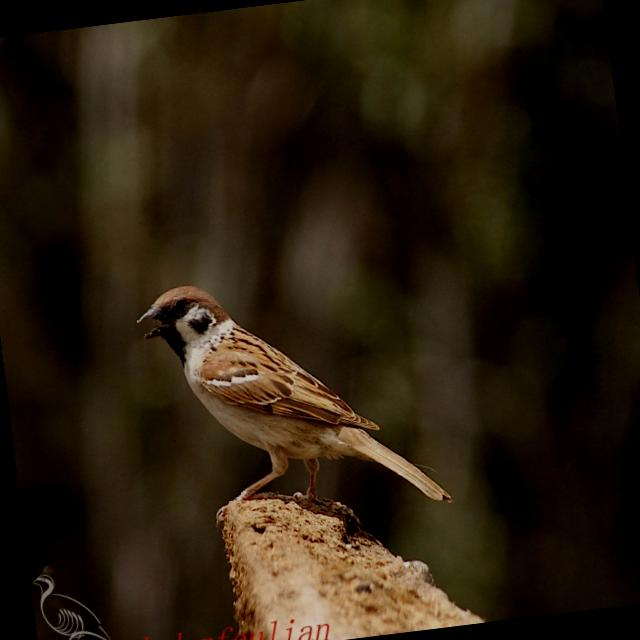bird: (123, 237, 460, 558)
